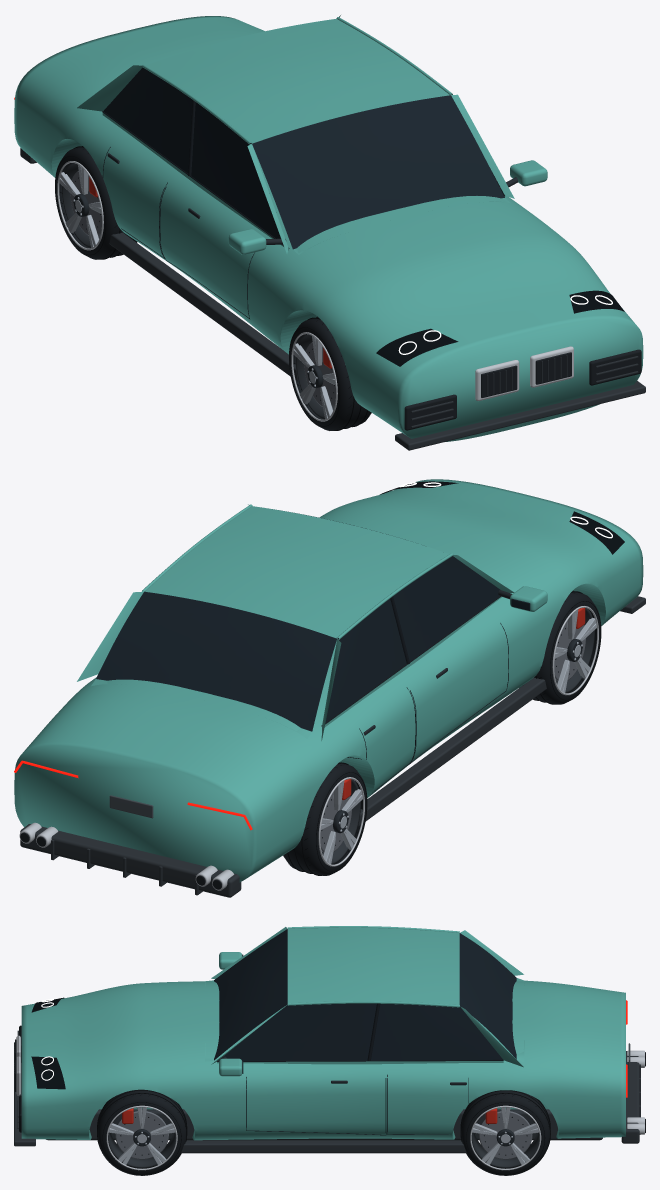
3 views of the same model, one above another, from view 1: azimuth 30°, elevation 25°; view 2: azimuth 150°, elevation 25°; view 3: azimuth 270°, elevation 25° (orthographic). The views are drawn at different scales.
Visible parts, largest first — view 1: Body_SculptedQuadShell, Web_Chassis_Rig_V6_Detail_Glass, Web_Chassis_Rig_m3_Exterior_NewPaint, Web_Chassis_Rig_Graphite metal, Web_Chassis_Rig_Rubber, Web_Wheel_FR_Rubber, Web_Wheel_RR_Rubber, Web_Chassis_Rig_V6 Smoked lamp polymer, Web_Chassis_Rig_Forged alloy, Web_Wheel_FR_V6 Forged alloy, Web_Wheel_RR_V6 Forged alloy, Web_Chassis_Rig_V6 Rubber (+4 smaller); view 2: Body_SculptedQuadShell, Web_Chassis_Rig_V6_Detail_Glass, Web_Chassis_Rig_m3_Exterior_NewPaint, Web_Chassis_Rig_Graphite metal, Web_Wheel_RR_Rubber, Web_Wheel_FR_Rubber, Web_Wheel_FR_V6 Forged alloy, Web_Chassis_Rig_V6 Rubber, Web_Wheel_RR_V6 Forged alloy, Web_Chassis_Rig_V6 Smoked lamp polymer, Web_Chassis_Rig_Forged alloy, Brake rotor.001 (+4 smaller); view 3: Body_SculptedQuadShell, Web_Chassis_Rig_V6_Detail_Glass, Web_Chassis_Rig_m3_Exterior_NewPaint, Web_Chassis_Rig_Graphite metal, Web_Wheel_FL_Rubber, Web_Wheel_RL_Rubber, Brake rotor.003, Brake rotor.002, Web_Chassis_Rig_V6 Rubber, Web_Chassis_Rig_V6 Smoked lamp polymer, Web_Wheel_RL_V6 Forged alloy, Web_Wheel_FL_V6 Forged alloy (+7 smaller).
Boxes of the visible parts, <box> form: Body_SculptedQuadShell: <box>14,16,643,442</box>; Web_Chassis_Rig_V6_Detail_Glass: <box>103,67,504,249</box>; Web_Chassis_Rig_m3_Exterior_NewPaint: <box>77,15,547,254</box>; Web_Chassis_Rig_Graphite metal: <box>20,148,645,450</box>; Web_Chassis_Rig_Rubber: <box>404,349,641,430</box>; Web_Wheel_FR_Rubber: <box>289,317,371,430</box>; Web_Wheel_RR_Rubber: <box>55,147,137,259</box>; Web_Chassis_Rig_V6 Smoked lamp polymer: <box>376,290,624,366</box>; Web_Chassis_Rig_Forged alloy: <box>475,346,573,400</box>; Web_Wheel_FR_V6 Forged alloy: <box>293,336,335,419</box>; Web_Wheel_RR_V6 Forged alloy: <box>59,164,101,247</box>; Web_Chassis_Rig_V6 Rubber: <box>102,100,504,318</box>; Body_SculptedQuadShell: <box>14,479,643,882</box>; Web_Chassis_Rig_V6_Detail_Glass: <box>96,511,530,731</box>; Web_Chassis_Rig_m3_Exterior_NewPaint: <box>77,504,547,740</box>; Web_Chassis_Rig_Graphite metal: <box>20,596,645,897</box>; Web_Wheel_RR_Rubber: <box>283,762,367,875</box>; Web_Wheel_FR_Rubber: <box>519,591,601,704</box>; Web_Wheel_FR_V6 Forged alloy: <box>554,610,596,692</box>; Web_Chassis_Rig_V6 Rubber: <box>321,596,508,790</box>; Web_Wheel_RR_V6 Forged alloy: <box>320,781,362,864</box>; Web_Chassis_Rig_V6 Smoked lamp polymer: <box>380,481,624,554</box>; Web_Chassis_Rig_Forged alloy: <box>19,822,234,890</box>; Brake rotor.001: <box>554,620,585,680</box>; Body_SculptedQuadShell: <box>21,980,625,1140</box>; Web_Chassis_Rig_V6_Detail_Glass: <box>214,929,516,1073</box>; Web_Chassis_Rig_m3_Exterior_NewPaint: <box>205,926,524,1076</box>; Web_Chassis_Rig_Graphite metal: <box>14,1030,640,1153</box>; Web_Wheel_FL_Rubber: <box>97,1089,186,1175</box>; Web_Wheel_RL_Rubber: <box>461,1090,549,1175</box>; Brake rotor.003: <box>115,1111,168,1159</box>; Brake rotor.002: <box>479,1111,532,1159</box>; Web_Chassis_Rig_V6 Rubber: <box>217,1003,503,1135</box>; Web_Chassis_Rig_V6 Smoked lamp polymer: <box>31,997,65,1089</box>; Web_Wheel_RL_V6 Forged alloy: <box>472,1107,538,1164</box>; Web_Wheel_FL_V6 Forged alloy: <box>108,1107,175,1164</box>.
Size of the model in its own units: 2.13 by 1.44 by 4.88.
